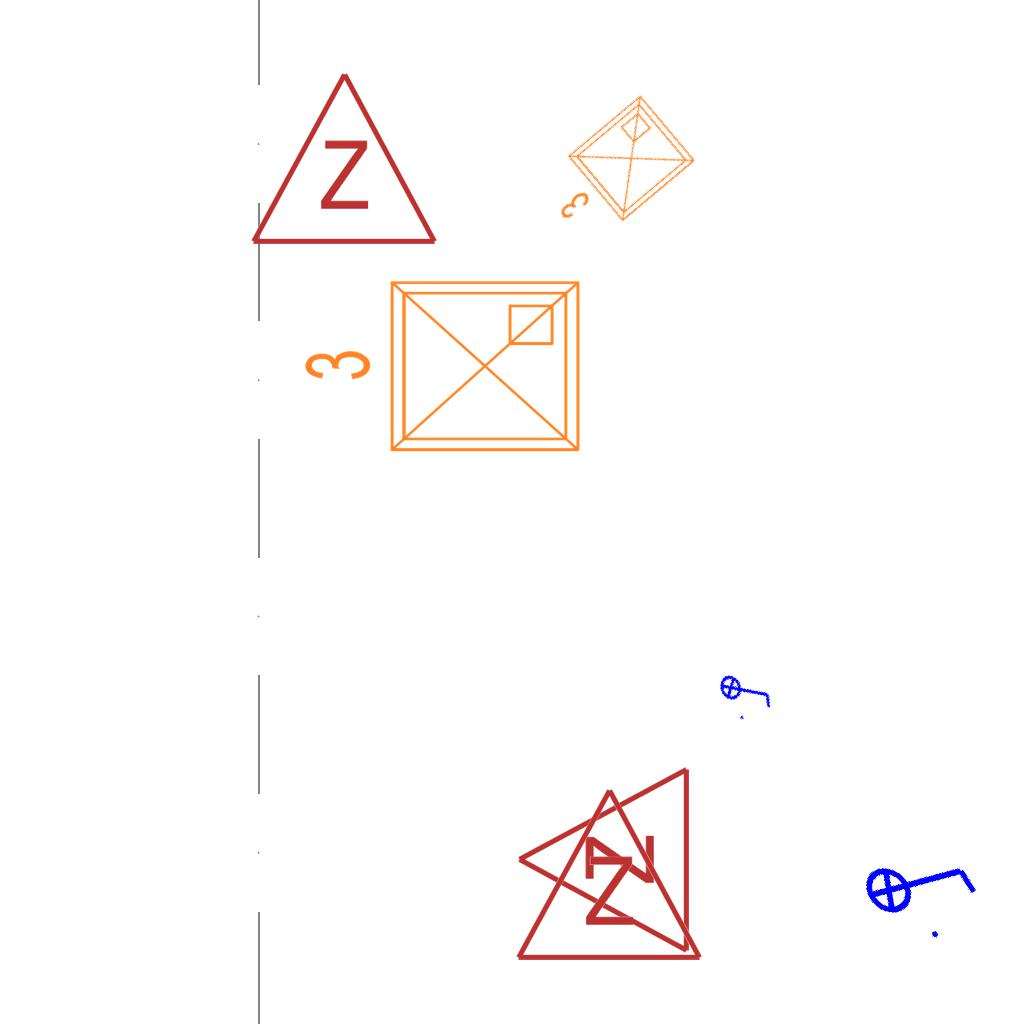Ausschalter_beleuchtet: (845, 809, 993, 957), (713, 656, 779, 726)
Einbaudownlights_LED_Konferenzraeume: (294, 266, 594, 474), (526, 84, 708, 262)
Zimmersignalleuchte: (504, 764, 704, 960), (244, 59, 440, 259), (509, 775, 705, 975)
